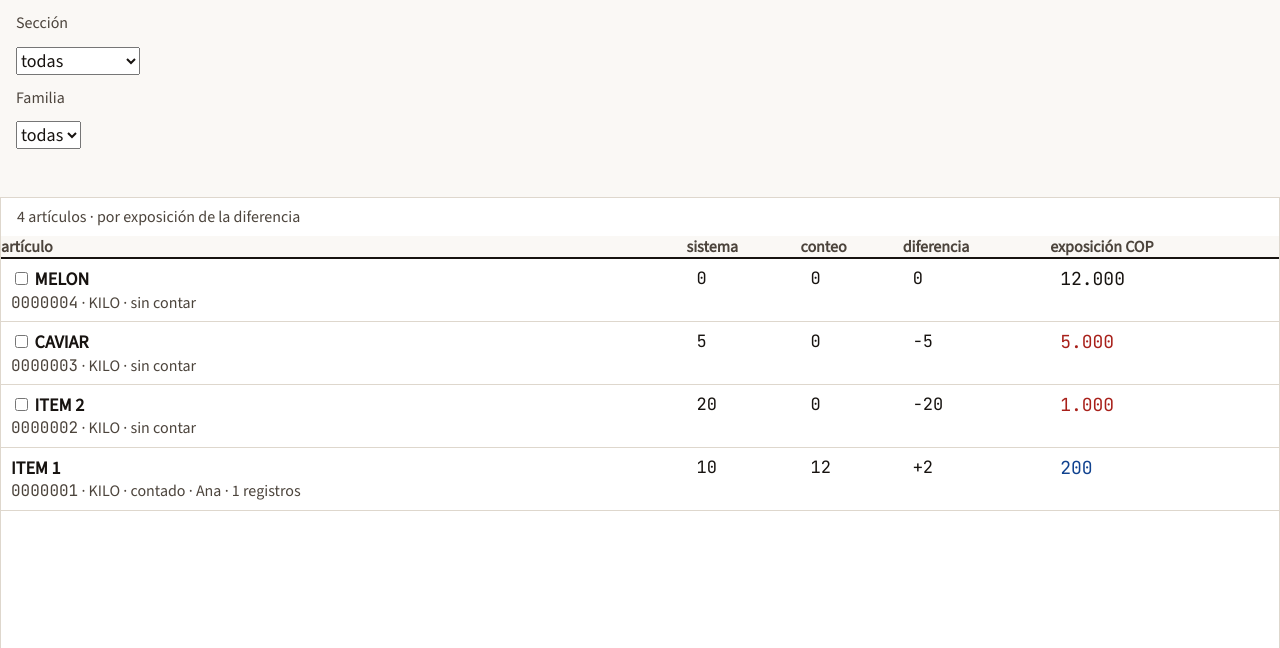
Test: the two figures, and when the second one earns its place (§2a, §4.2) › withdraws one without deleting it
(page scrolled)
Click the checkbox named "elegir CAVIAR" at (22, 342), box left=15, top=335, right=28, bottom=348
(page scrolled)
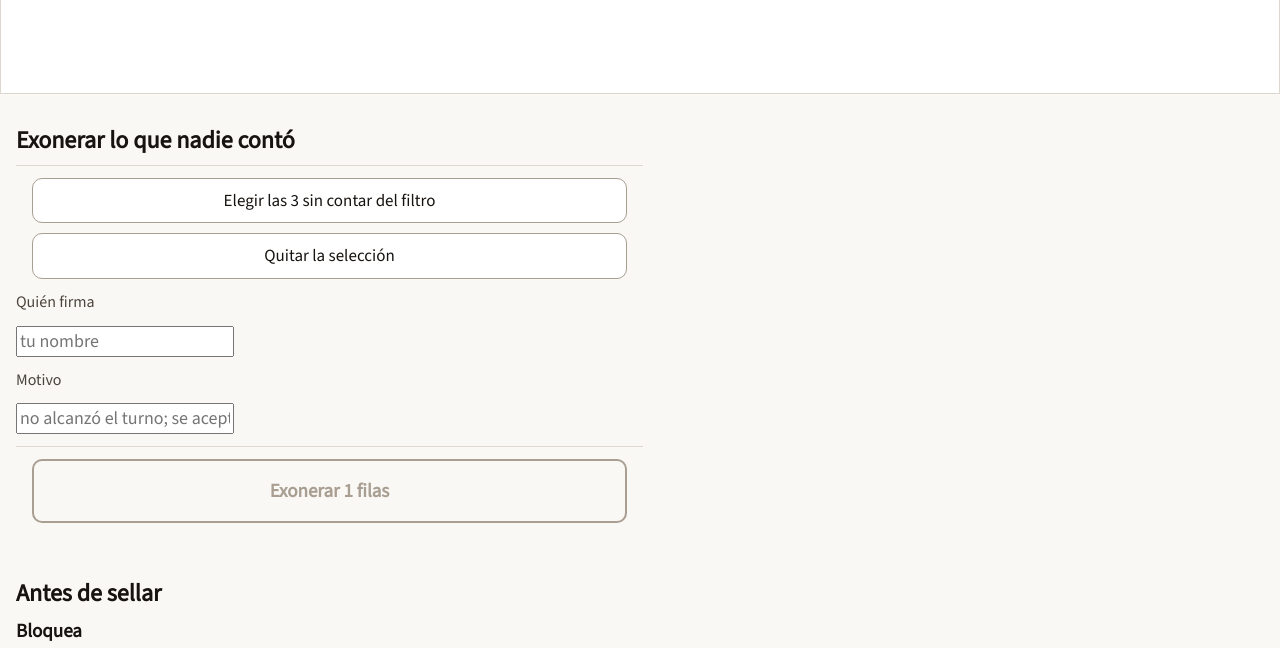
Type "marta" into the field labelled "Quién firma" at (125, 341), box left=16, top=326, right=234, bottom=357
Type "cierre" into the field labelled "Motivo" at (125, 419), box left=16, top=403, right=234, bottom=434
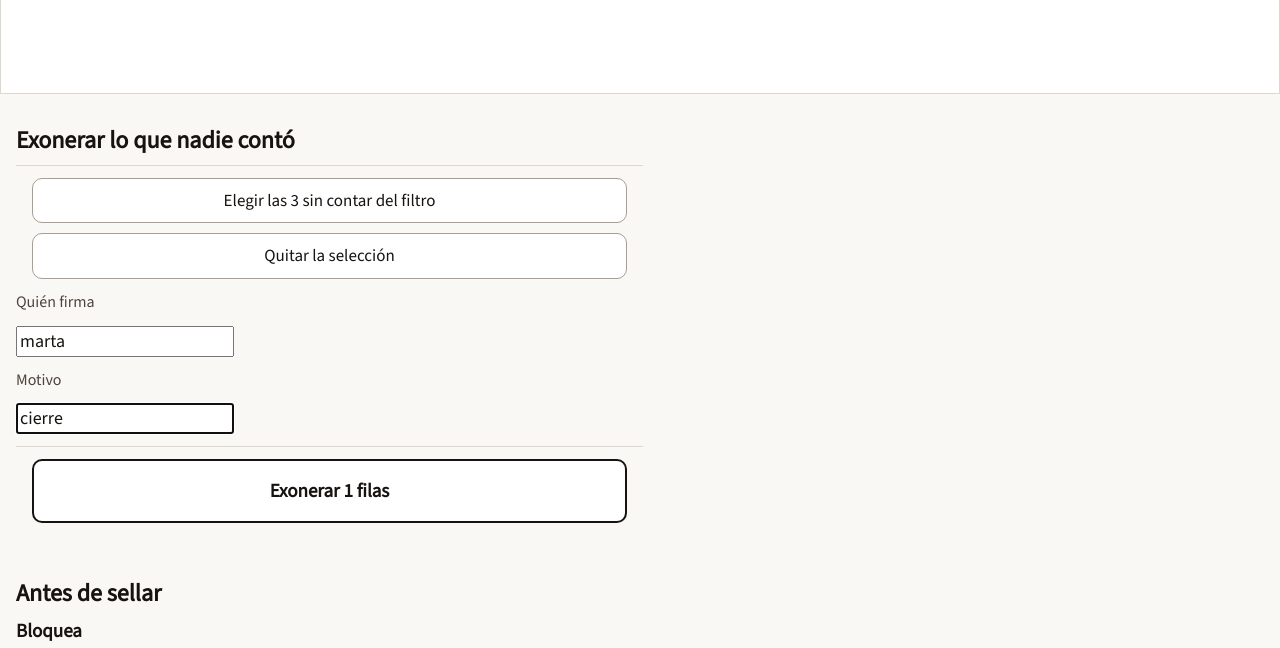
Click the button "Exonerar 1 filas" at (330, 491), box left=32, top=459, right=627, bottom=523
(page scrolled)
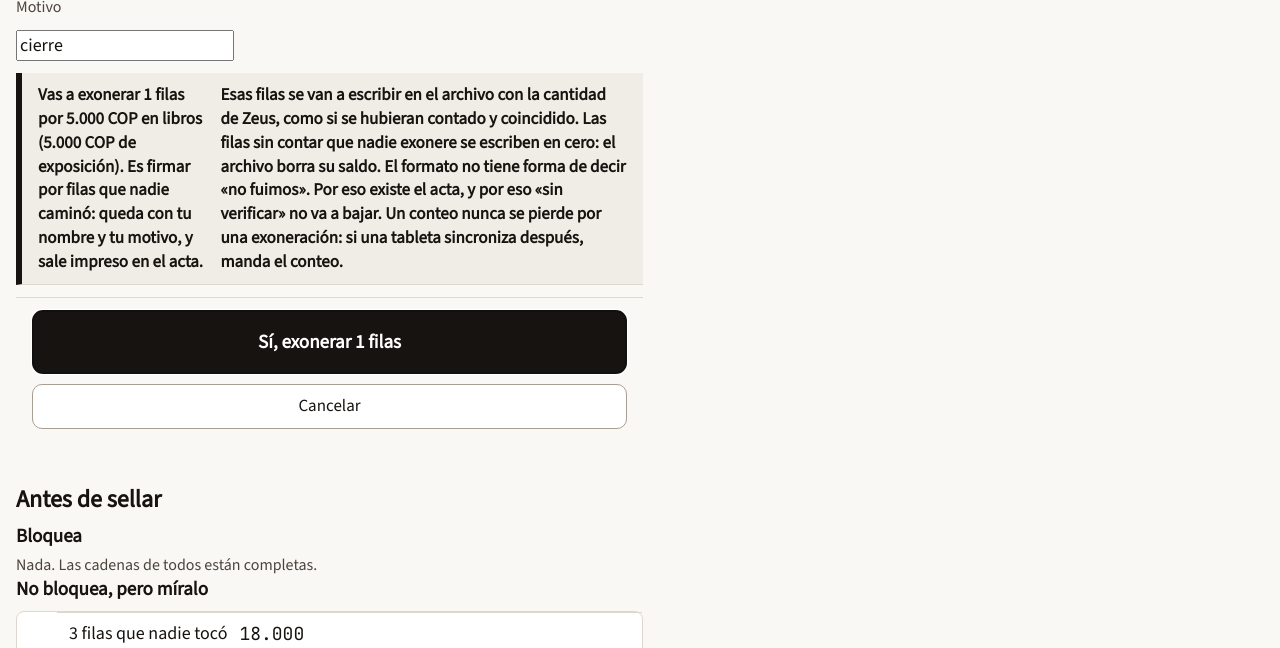
Click the button "Sí, exonerar 1 filas" at (330, 342), box left=32, top=310, right=627, bottom=374
(page scrolled)
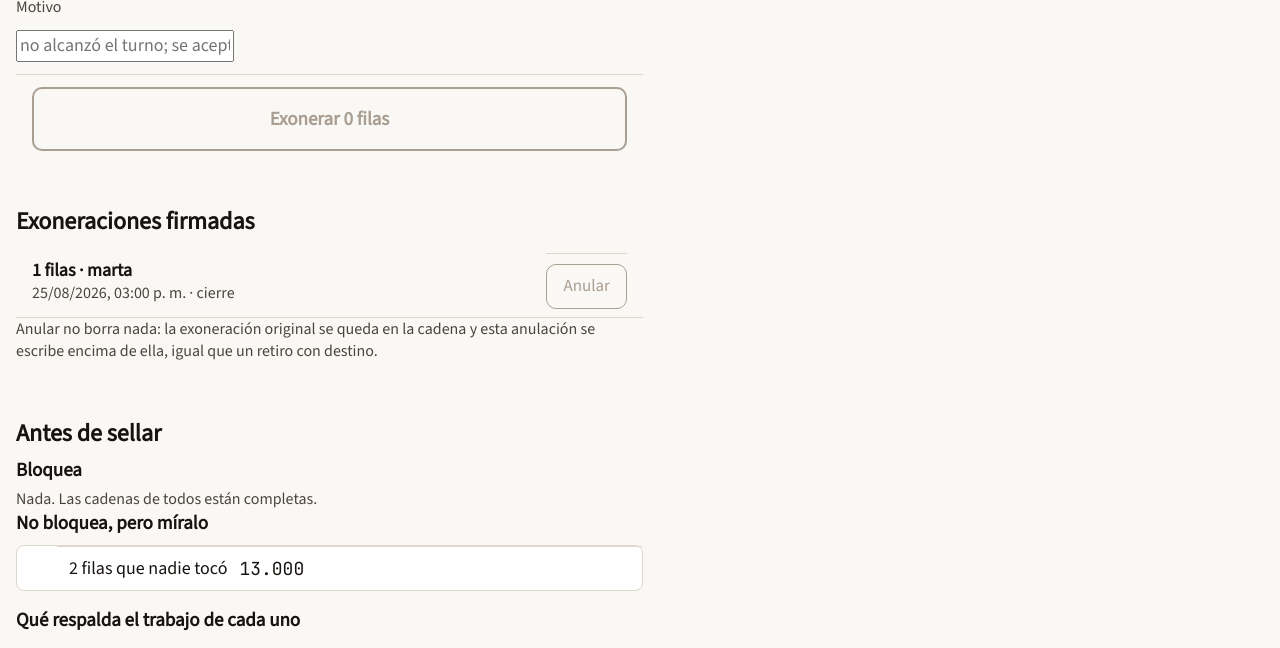
Result: the text "Exoneraciones firmadas" is shown at left=16, top=205, right=254, bottom=237
Type "me equivoqué" into the field labelled "Motivo" at (125, 46), box left=16, top=30, right=234, bottom=62
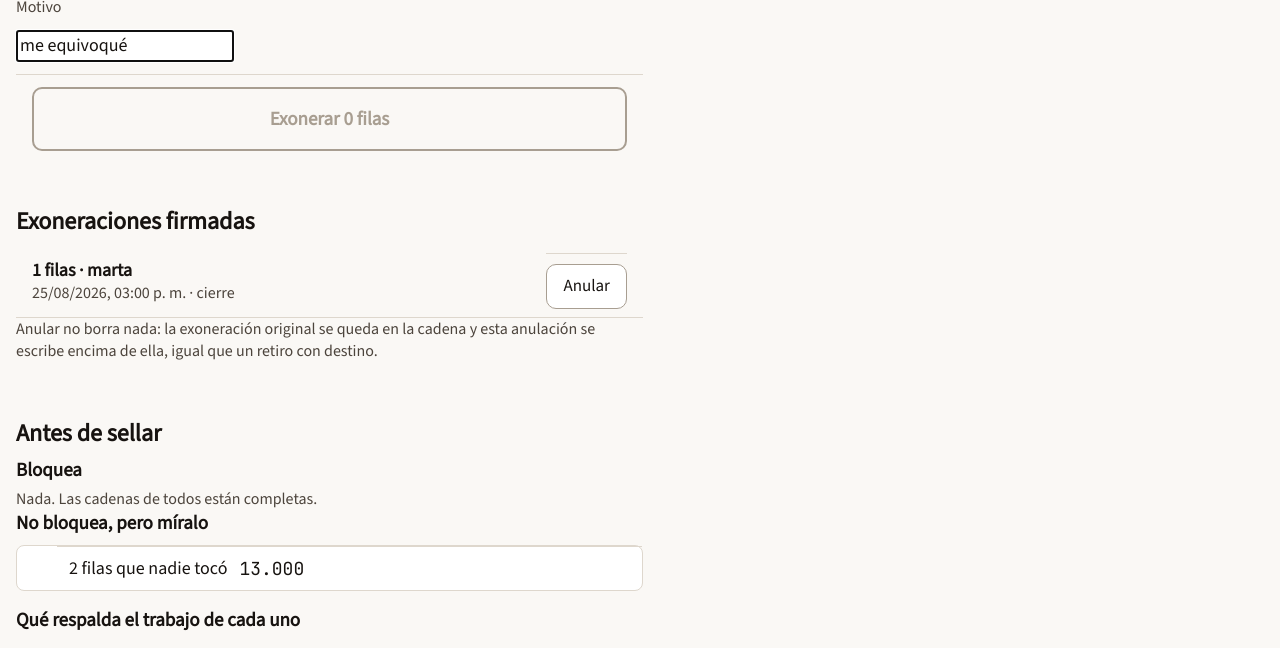
Click the button with aria-label "anular la exoneración de marta" at (587, 287), box left=546, top=264, right=627, bottom=309
(page scrolled)
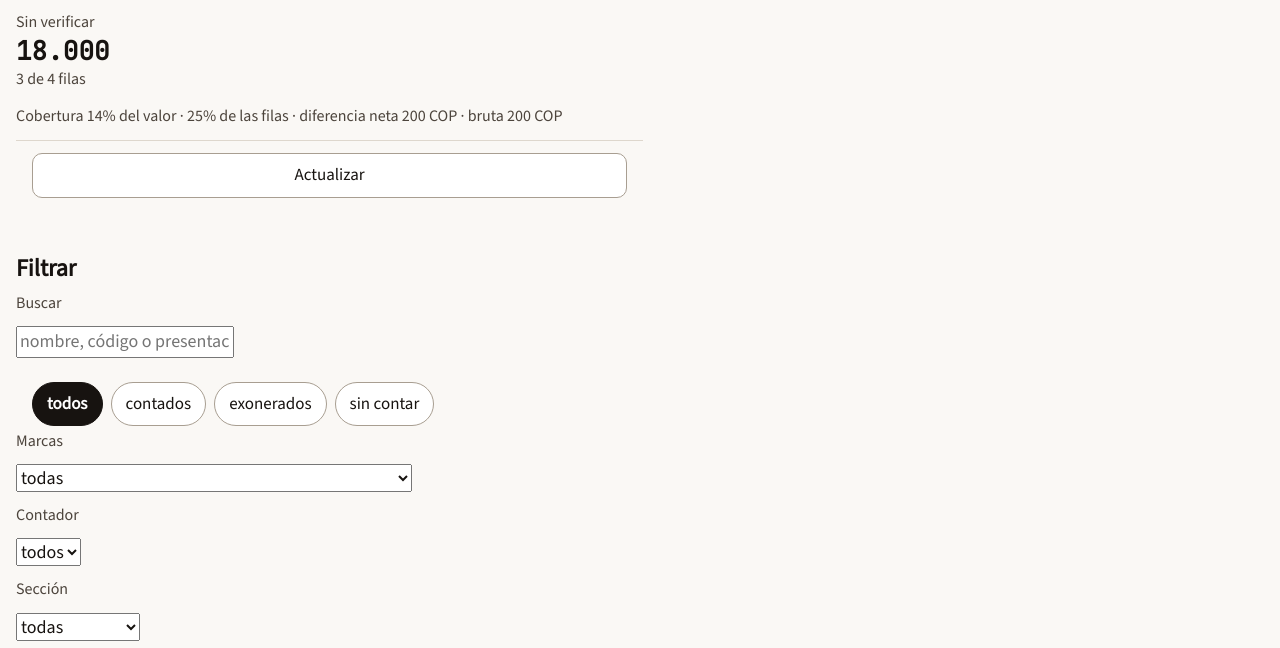
Result: the text "3 de 4 filas" is shown at left=16, top=68, right=86, bottom=89
